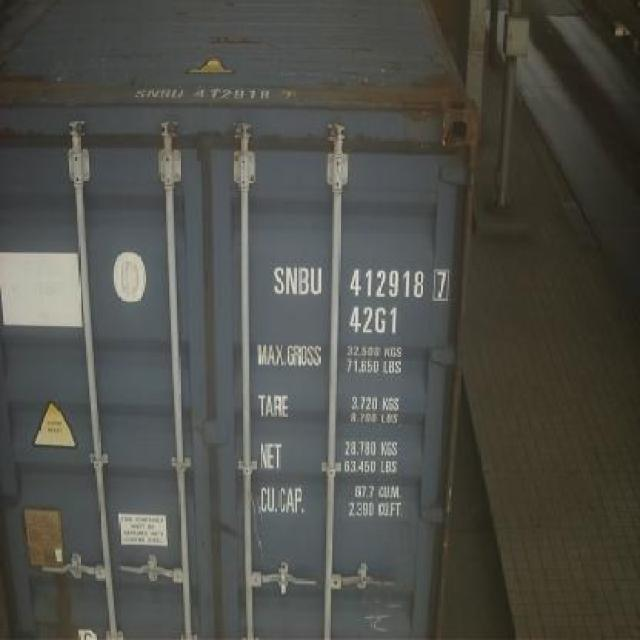ISO: (348, 306, 396, 332)
container_number: (278, 269, 450, 299)
